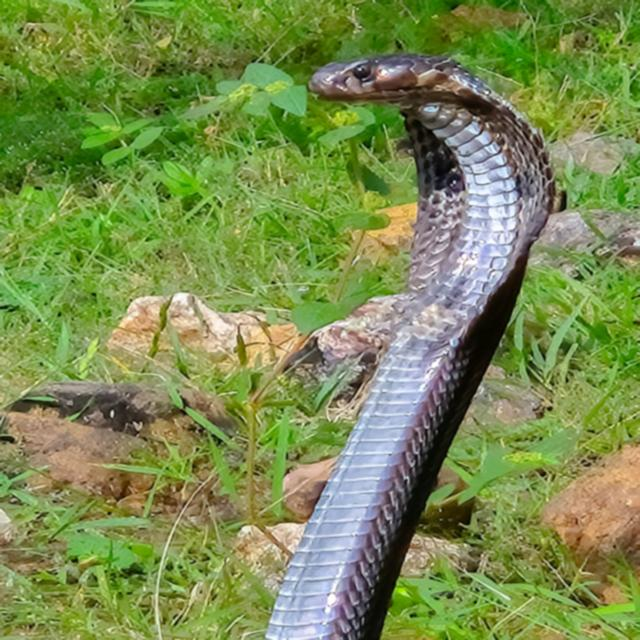Snake: (153, 49, 640, 640)
